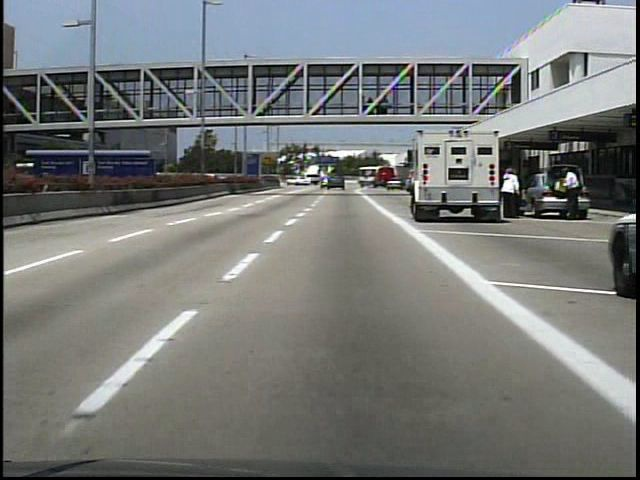person: (555, 163, 582, 220), (498, 161, 522, 221)
